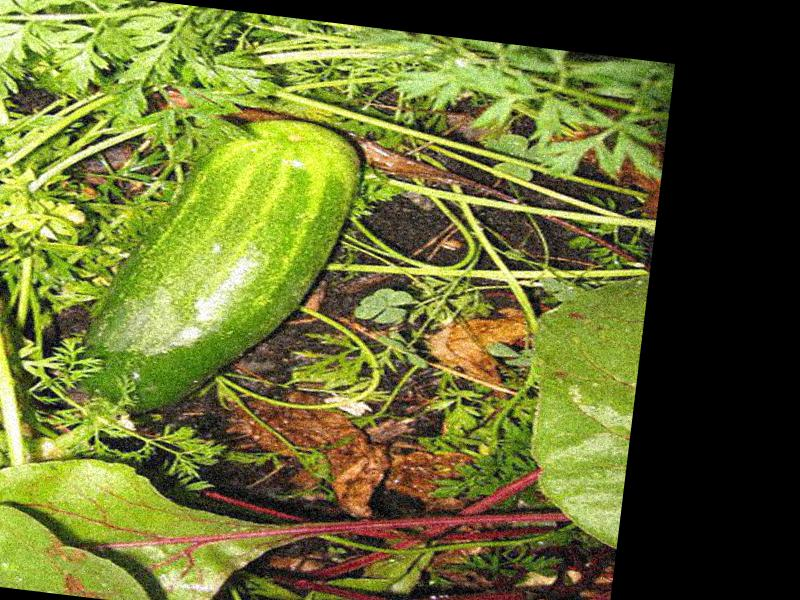Cucumber: (64, 101, 367, 436)
